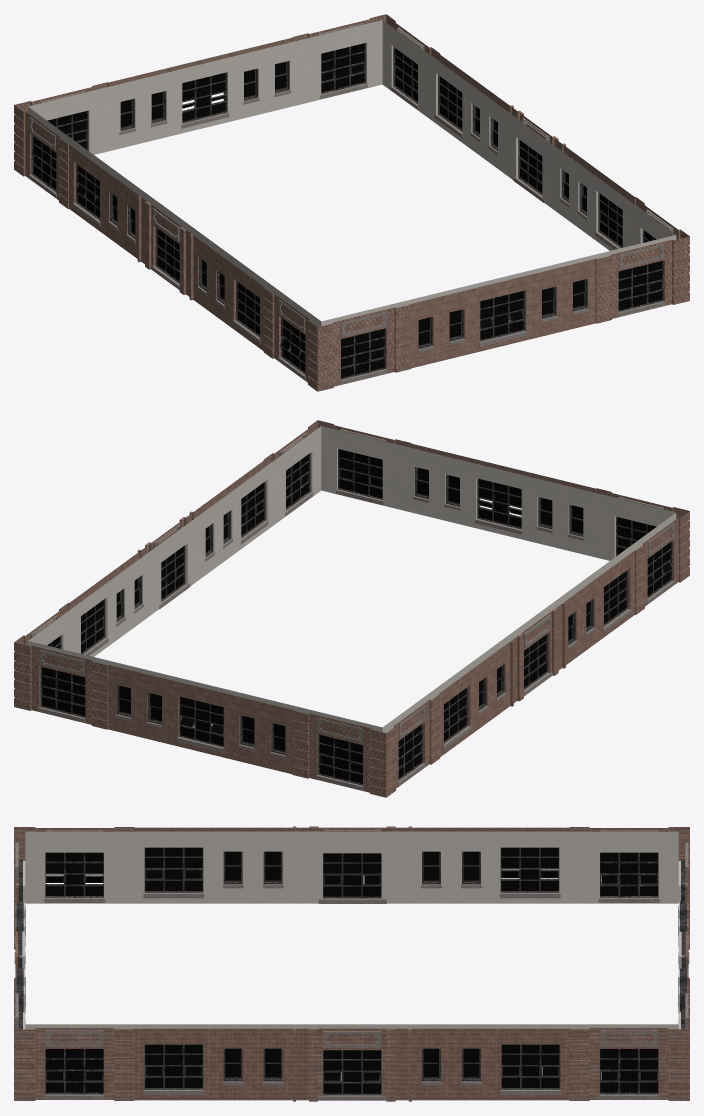
Rendered from BuildingB_Mid_VarB.fbx.
3 renders of one model, top to bottom at view 1: azimuth 30°, elevation 25°; view 2: azimuth 150°, elevation 25°; view 3: azimuth 270°, elevation 25°, orthographic. The views are drawn at different scales.
Visible parts, largest first — view 1: BuildingB_Mid_VarB; view 2: BuildingB_Mid_VarB; view 3: BuildingB_Mid_VarB.
Boxes of the visible parts, left/top/right/bottom form: BuildingB_Mid_VarB: left=14, top=14, right=689, bottom=391; BuildingB_Mid_VarB: left=14, top=420, right=689, bottom=797; BuildingB_Mid_VarB: left=14, top=826, right=689, bottom=1101.
Size of the model in its own units: 2430 by 400 by 3410.
